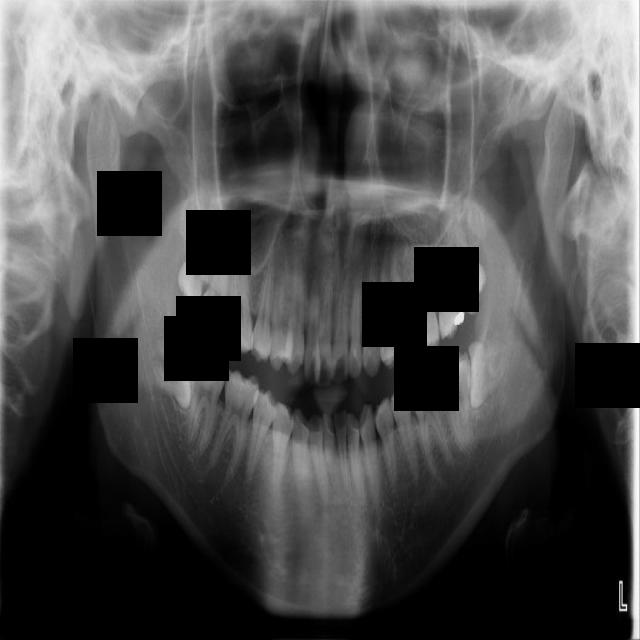3M ESPE Implant: (171, 214, 215, 317)
52: (188, 349, 230, 399), (197, 293, 226, 342), (439, 293, 465, 340)
73: (582, 586, 588, 599)
BioHorizons Implant: (435, 228, 465, 341)
BioLife Implant: (443, 214, 496, 318)
Biomet 3i Implant: (469, 340, 508, 409)
Blue Sky Bio Implant: (437, 352, 472, 453)
Caries: (195, 235, 232, 342)
Implant: (174, 348, 230, 454)
Keystone Dental Implant: (150, 338, 197, 408)
